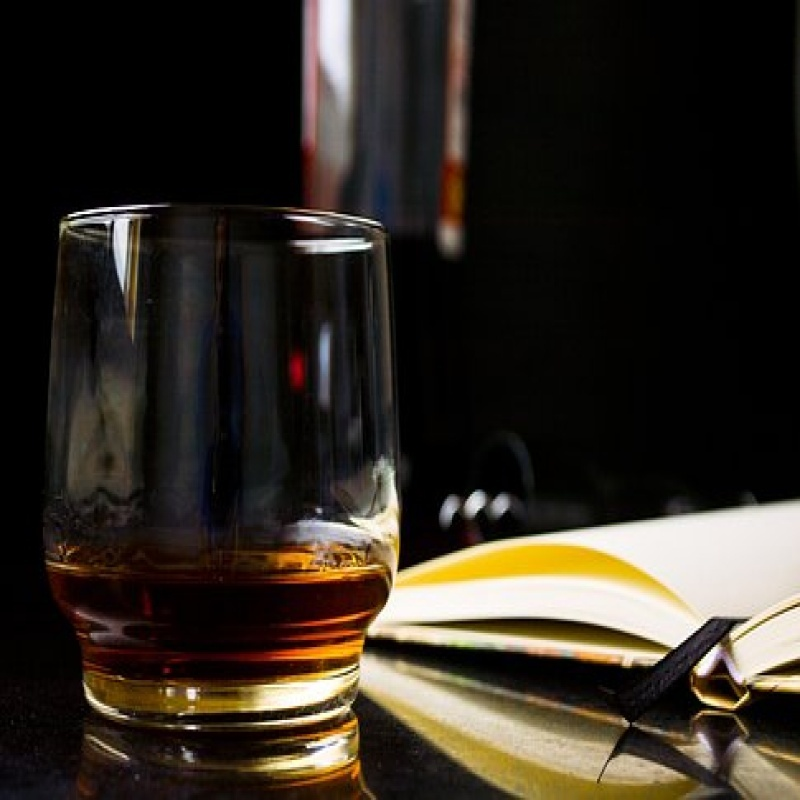whiskey: (41, 216, 399, 720)
